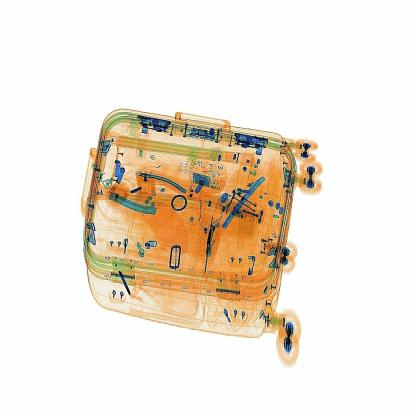pliers: (222, 158, 269, 232)
